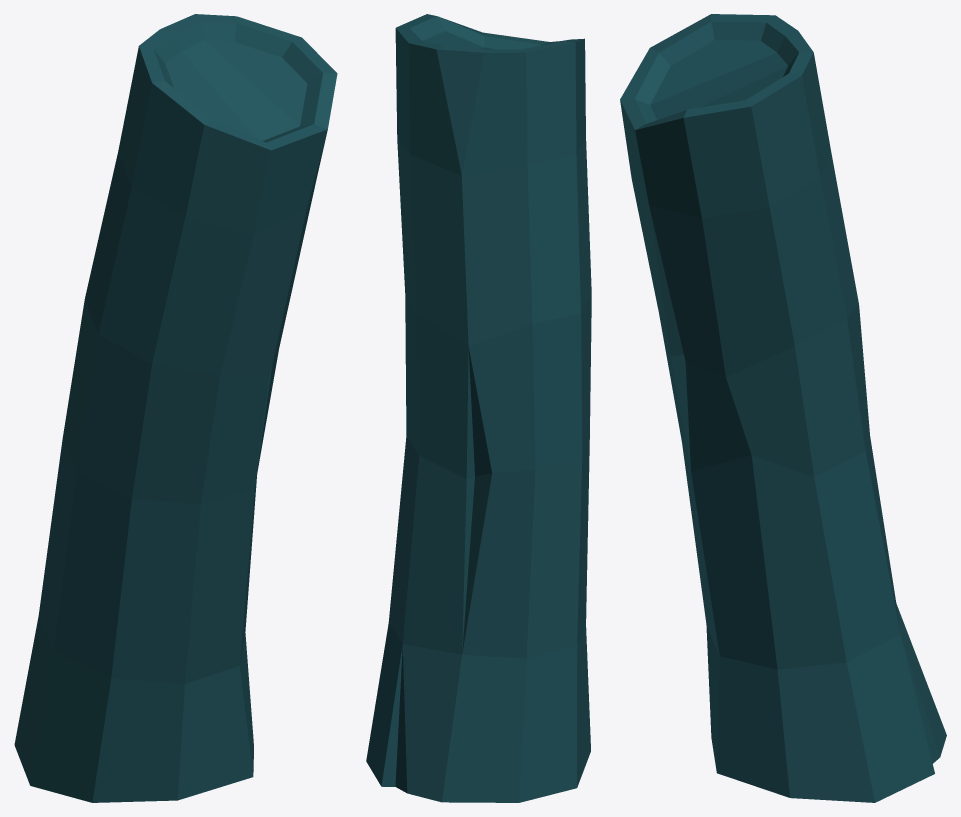
The model's file is arbre.glb.
3 renders of one model, left to right at view 1: azimuth 30°, elevation 25°; view 2: azimuth 150°, elevation 25°; view 3: azimuth 270°, elevation 25°, orthographic. The views are drawn at different scales.
Visible parts, largest first — view 1: mesh_id6, mesh_id7; view 2: mesh_id6, mesh_id7; view 3: mesh_id6, mesh_id7.
Part boxes in pixels (bbox=[...]): mesh_id6: bbox=[14, 14, 337, 802]; mesh_id7: bbox=[165, 40, 307, 140]; mesh_id6: bbox=[366, 14, 591, 802]; mesh_id7: bbox=[422, 31, 494, 49]; mesh_id6: bbox=[620, 14, 946, 802]; mesh_id7: bbox=[650, 40, 787, 119].
Bounding box in the file's own units: 0.1359 × 0.4142 × 0.1679.
Materials: 2 (2 with a texture image).
